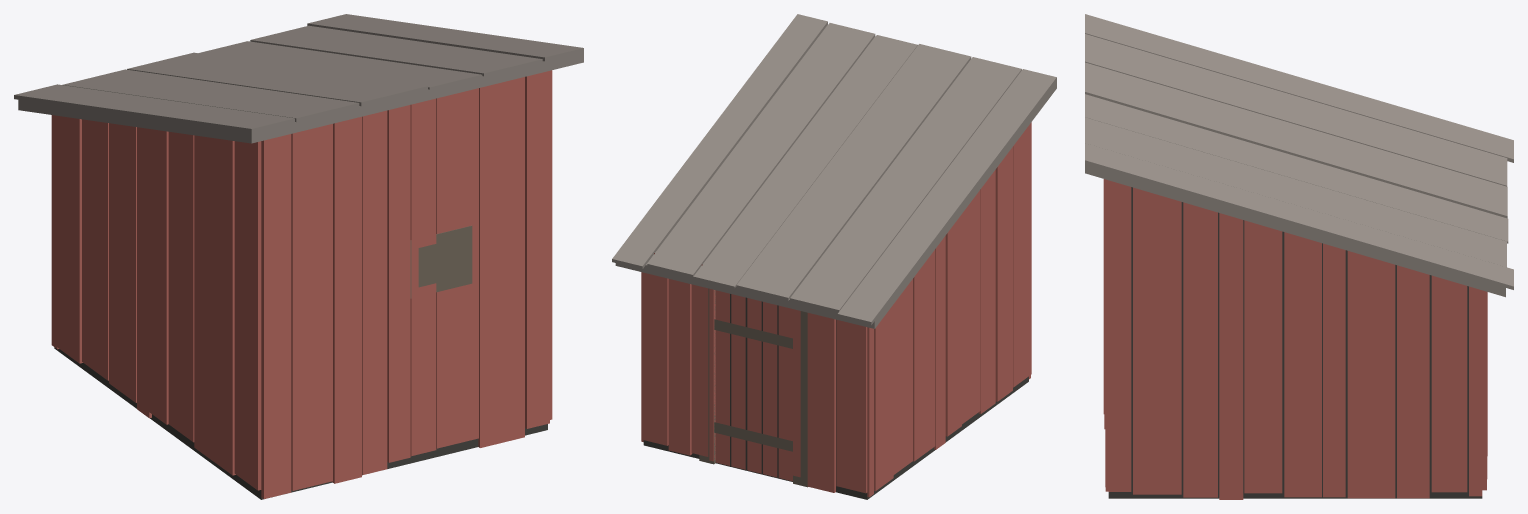
File: recon_1835_north_a5_049__inferred_1835.glb
3 views of the same model, side by side, from view 1: azimuth 30°, elevation 25°; view 2: azimuth 150°, elevation 25°; view 3: azimuth 270°, elevation 25° (orthographic). The views are drawn at different scales.
Visible parts, largest first — view 1: recon_1835_north_a5_049__inferred_1835; view 2: recon_1835_north_a5_049__inferred_1835; view 3: recon_1835_north_a5_049__inferred_1835.
Boxes of the visible parts, bbox=[...] form: recon_1835_north_a5_049__inferred_1835: bbox=[14, 14, 583, 499]; recon_1835_north_a5_049__inferred_1835: bbox=[612, 14, 1056, 499]; recon_1835_north_a5_049__inferred_1835: bbox=[1085, 14, 1513, 499].
Size of the model in its own units: 2.82 by 3.14 by 3.5.
